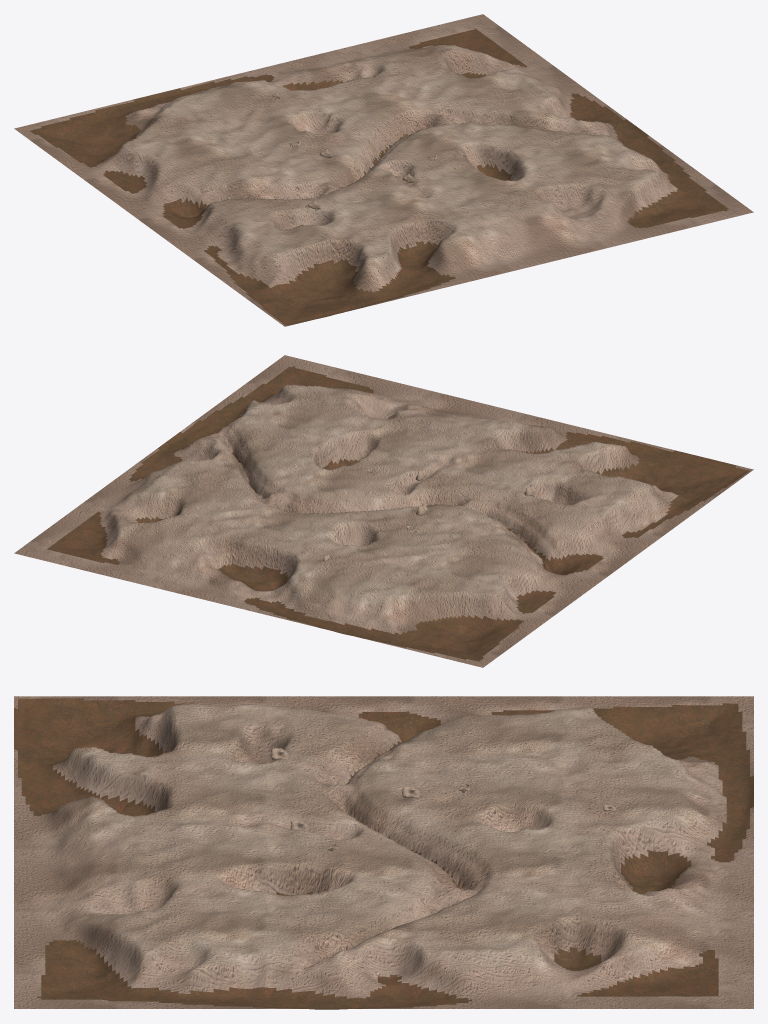
The model's file is terrain_desert_canyon_hd.glb.
3 renders of one model, top to bottom at view 1: azimuth 30°, elevation 25°; view 2: azimuth 150°, elevation 25°; view 3: azimuth 270°, elevation 25°, orthographic. The views are drawn at different scales.
Parts seen in each view (by area): view 1: CanyonFloor; view 2: CanyonFloor; view 3: CanyonFloor.
Boxes of the visible parts, x1=… form: CanyonFloor: x1=14, y1=14, x2=753, y2=326; CanyonFloor: x1=14, y1=355, x2=753, y2=667; CanyonFloor: x1=14, y1=696, x2=753, y2=1009.
Size of the model in its own units: 300 by 24.71 by 300.
3 materials, 2 textured.
